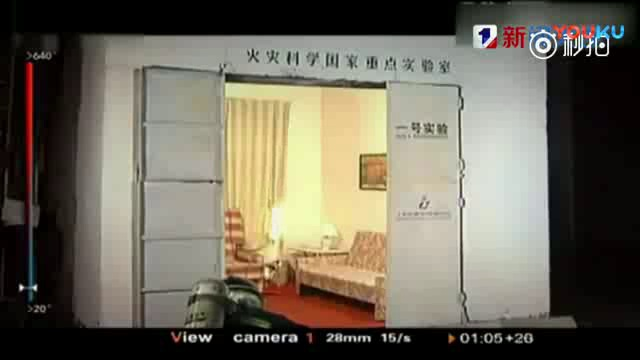fire: (267, 198, 326, 250)
